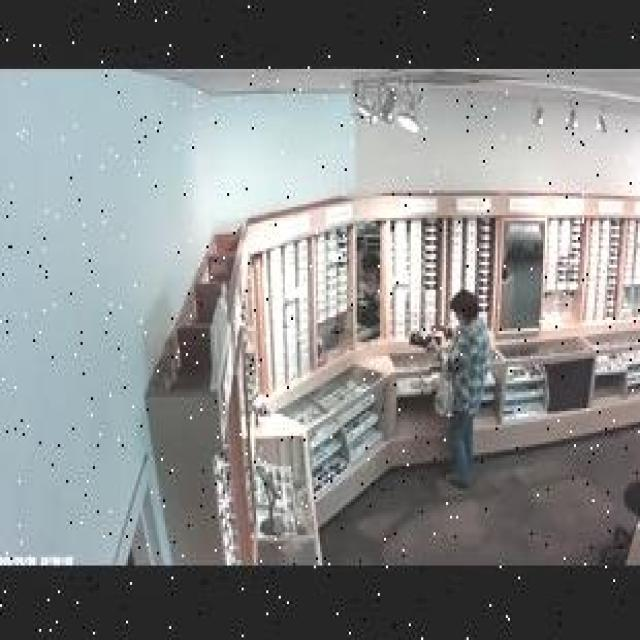Shoplifting: (400, 281, 514, 492)
